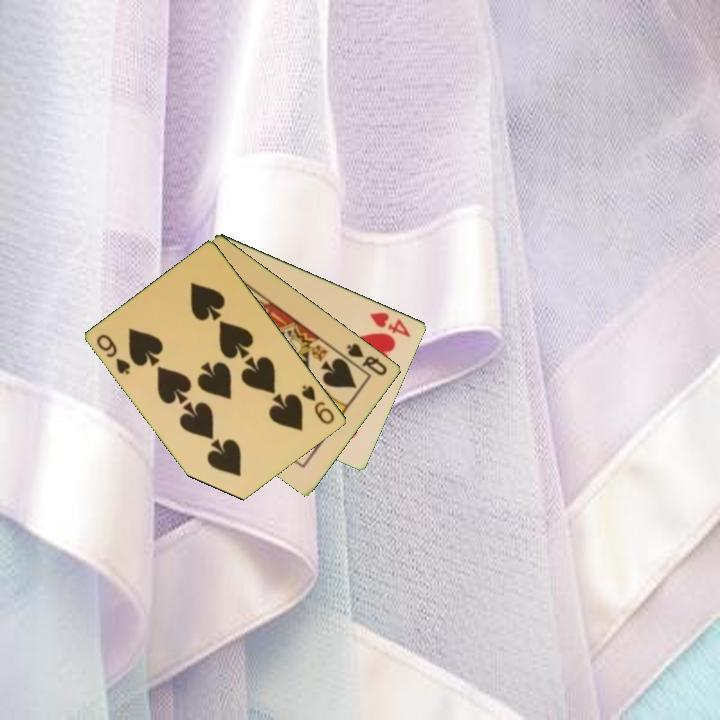4h: (366, 308, 414, 340)
9s: (93, 331, 134, 377), (298, 381, 338, 427)
Qs: (343, 339, 391, 379)
